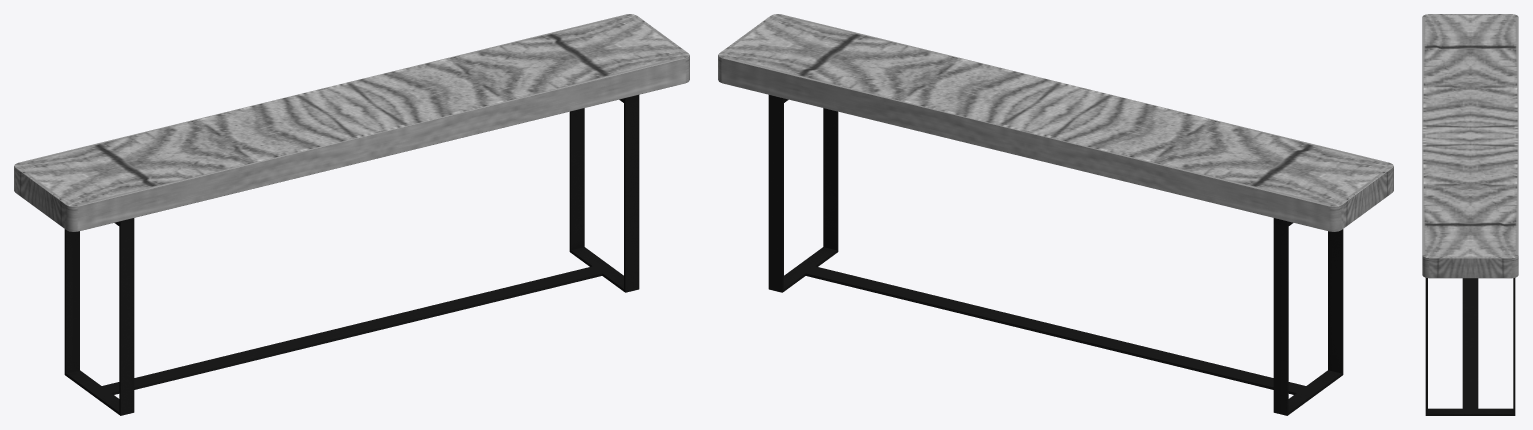
The model's file is raw_model.obj.
3 renders of one model, left to right at view 1: azimuth 30°, elevation 25°; view 2: azimuth 150°, elevation 25°; view 3: azimuth 270°, elevation 25°, orthographic. The views are drawn at different scales.
Visible parts, largest first — view 1: solid_002, solid_001; view 2: solid_002, solid_001; view 3: solid_002, solid_001.
Boxes of the visible parts, box(x1,y1,x2,y2) form: solid_002: box(14, 14, 689, 231); solid_001: box(64, 95, 639, 415); solid_002: box(718, 14, 1393, 231); solid_001: box(768, 95, 1343, 415); solid_002: box(1422, 14, 1518, 278); solid_001: box(1425, 278, 1515, 415).
Size of the model in its own units: 1.8 by 0.6134 by 0.3001.
Materials: 1 (1 with a texture image).
